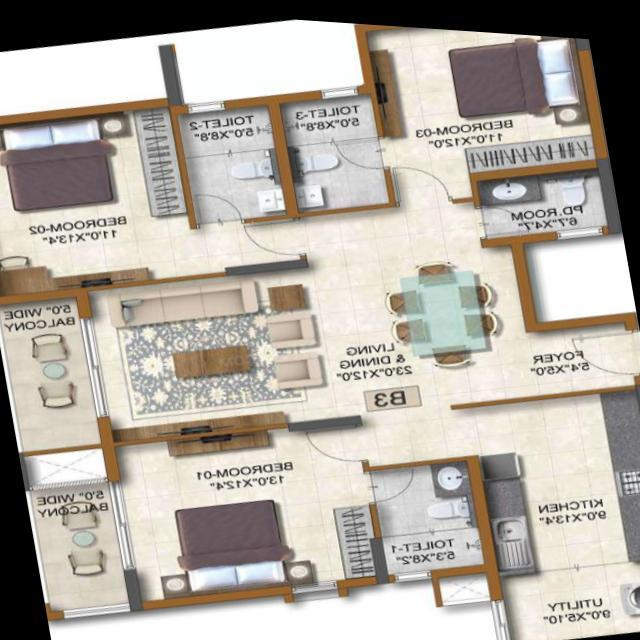Balcony-Sitout: (0, 289, 108, 453), (25, 477, 137, 613)
Bedroom with Toilet: (109, 412, 496, 606), (272, 19, 609, 213), (0, 92, 308, 298)
Dining: (376, 246, 510, 376)
Enterance-Foyer: (527, 307, 640, 387)
Kitchen: (464, 377, 640, 571)
Living: (82, 261, 334, 443)
Toilet: (172, 93, 291, 224), (366, 450, 490, 573), (273, 84, 391, 210), (474, 154, 616, 235)
Utility: (495, 554, 640, 639)
